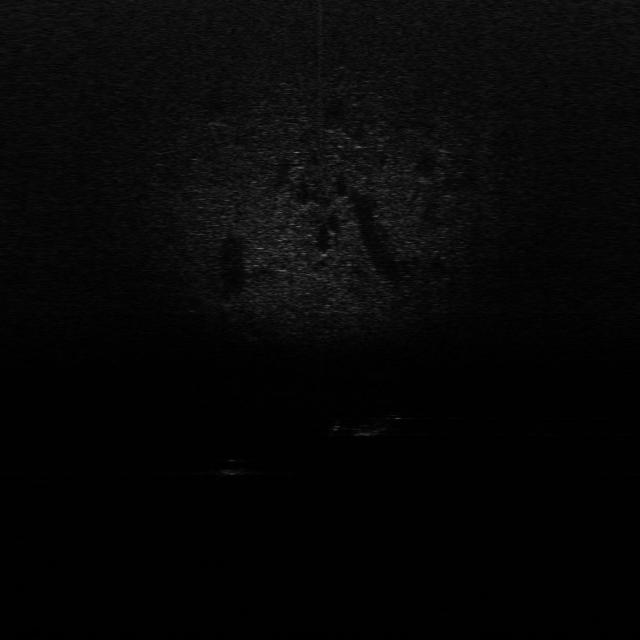ball: (217, 454, 246, 477)
human body: (328, 412, 403, 437)
